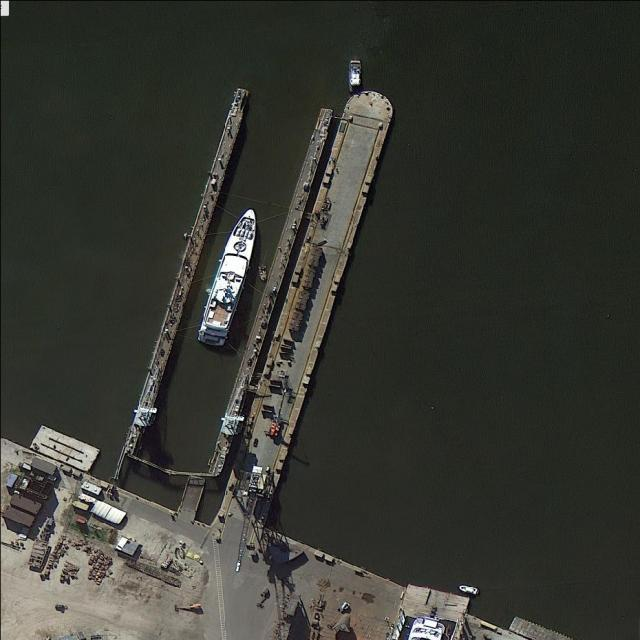Dock: (218, 87, 398, 526)
Yacht: (197, 205, 262, 350)
